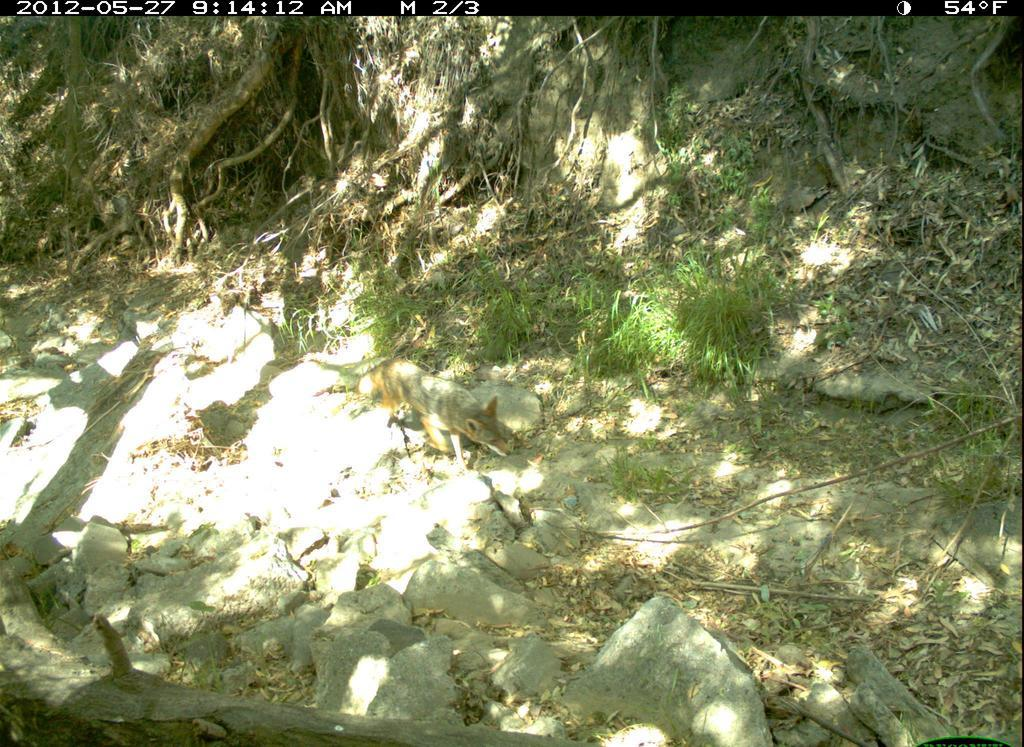coyote: (364, 353, 518, 474)
